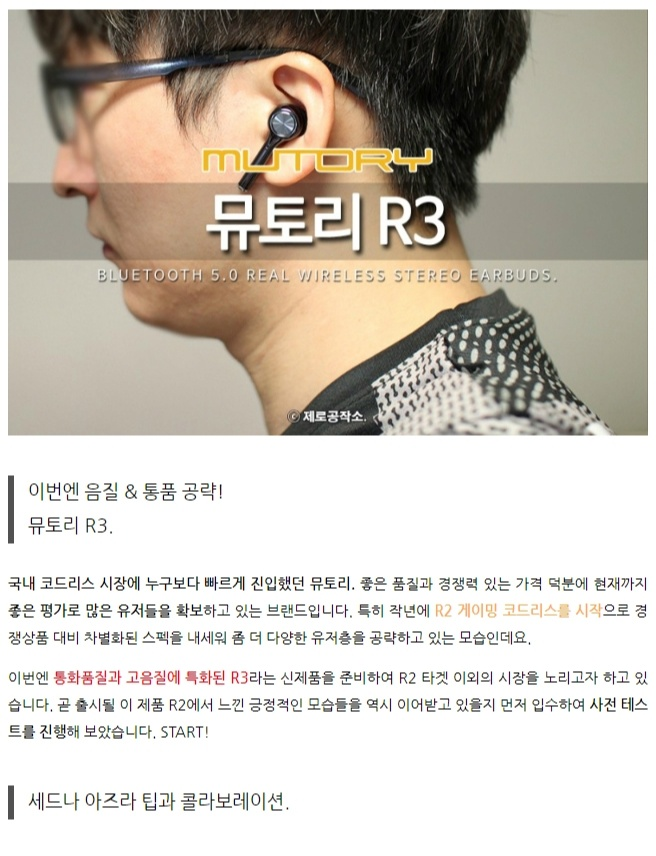earphone: (237, 52, 335, 192)
